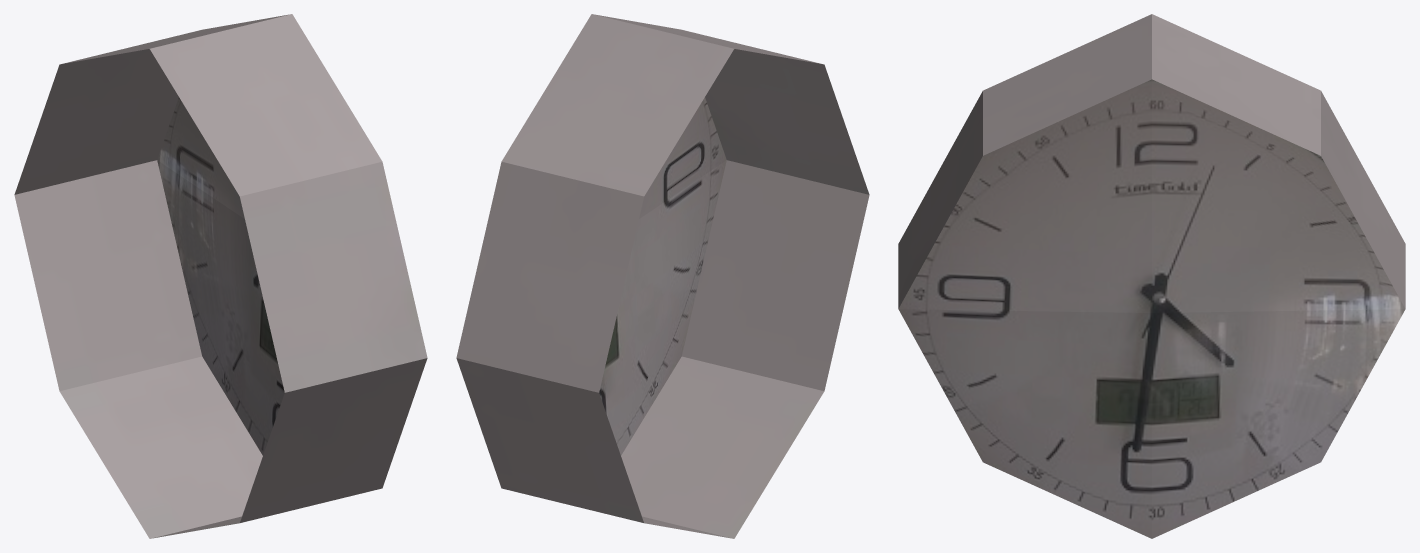
File: Saat.fbx
The picture shows the model from 3 angles, left to right: view 1: azimuth 30°, elevation 25°; view 2: azimuth 150°, elevation 25°; view 3: azimuth 270°, elevation 25°; orthographic projection. The views are drawn at different scales.
Parts seen in each view (by area): view 1: Cube; view 2: Cube; view 3: Cube.
Part boxes in pixels (bbox=[...]): Cube: bbox=[14, 14, 427, 538]; Cube: bbox=[456, 14, 869, 538]; Cube: bbox=[898, 14, 1405, 538].
Size of the model in its own units: 96.92 by 300 by 300.
